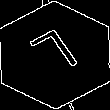L_SE: (25, 26, 85, 84)
